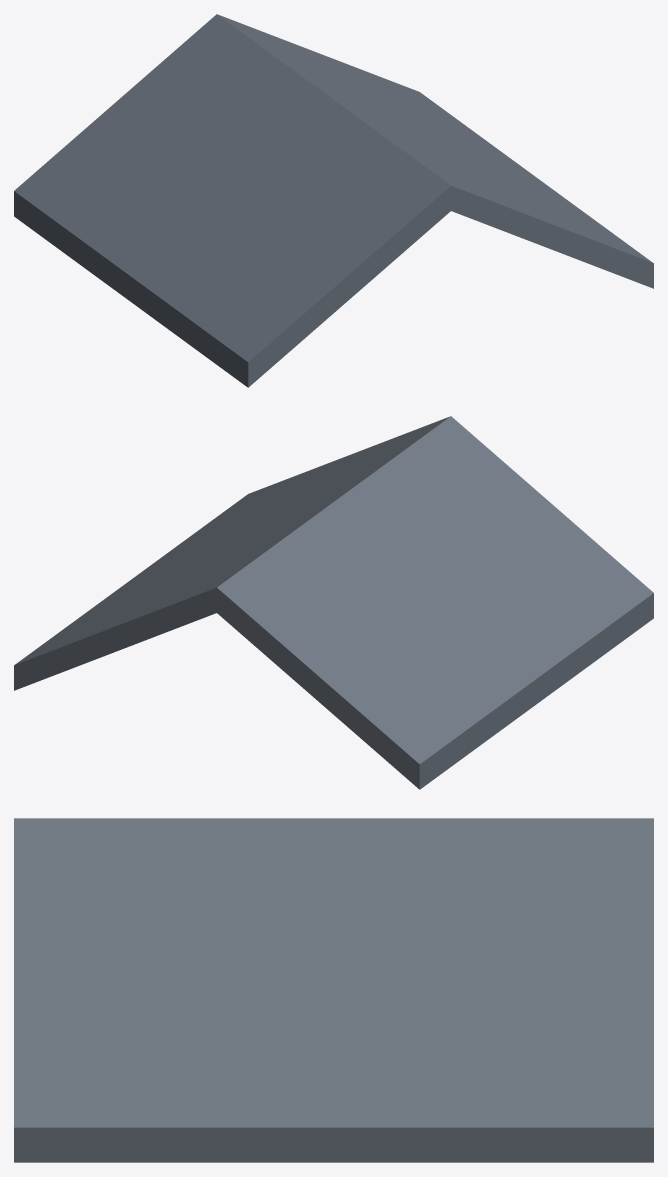
Rendered from roof_gable_2m.glb.
3 renders of one model, top to bottom at view 1: azimuth 30°, elevation 25°; view 2: azimuth 150°, elevation 25°; view 3: azimuth 270°, elevation 25°, orthographic. The views are drawn at different scales.
Visible parts, largest first — view 1: roof_left_slope, roof_right_slope; view 2: roof_left_slope, roof_right_slope; view 3: roof_right_slope.
Part boxes in pixels (x1,y1,x2,y2): roof_left_slope: (14,14,450,387); roof_right_slope: (217,14,653,288); roof_left_slope: (217,416,653,789); roof_right_slope: (14,416,450,690); roof_right_slope: (14,818,653,1162).
Size of the model in its own units: 2 by 0.72 by 2.
